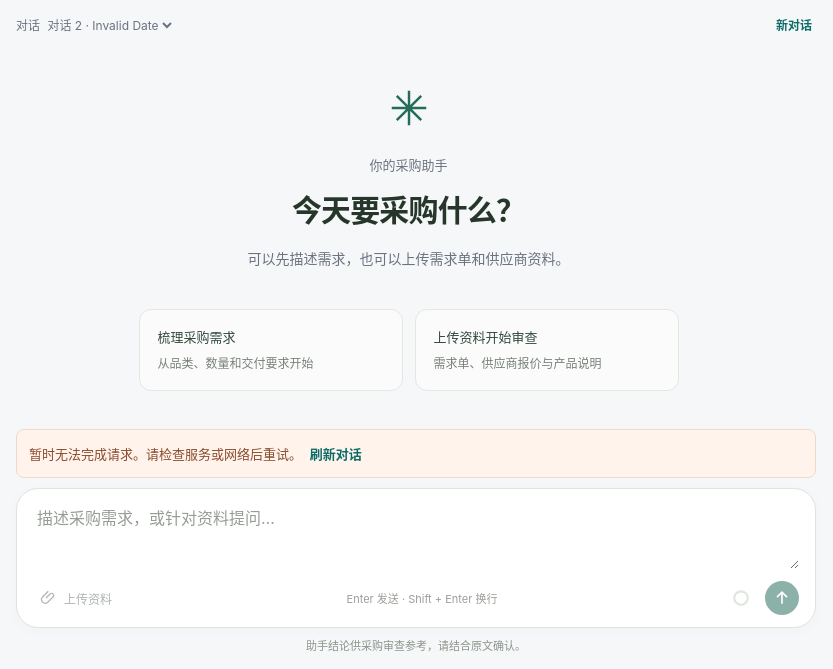
Test: a failed history read can recover by opening another conversation
Check: the text box with placeholder "描述采购需求，或针对资料提问…" is disabled, box [33,505,799,569]
Select "对话 1 · Invalid Date" in the dropdown named "选择对话". click: (109, 25)
box: [43,16,175,34]
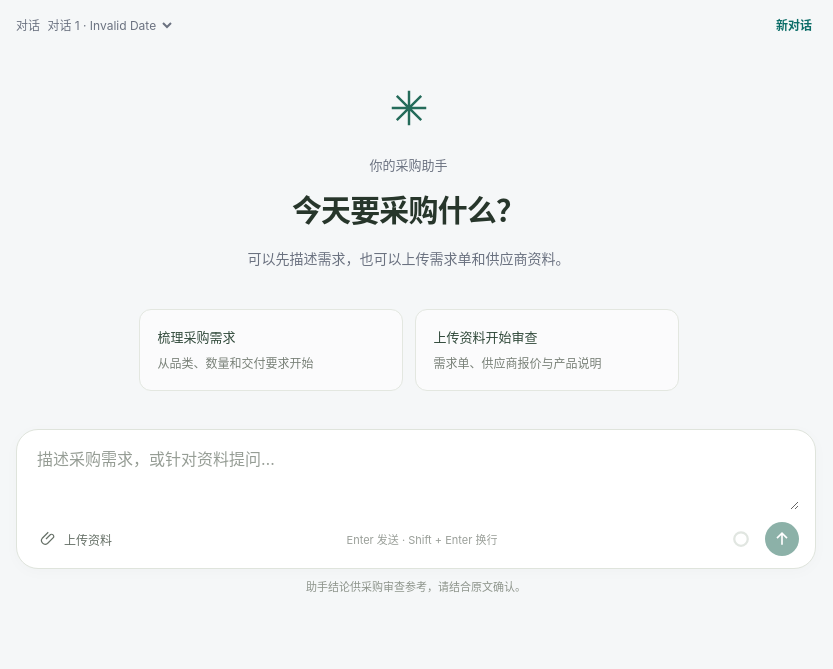
Check: the text box with placeholder "描述采购需求，或针对资料提问…" is enabled, box [33,446,799,510]
